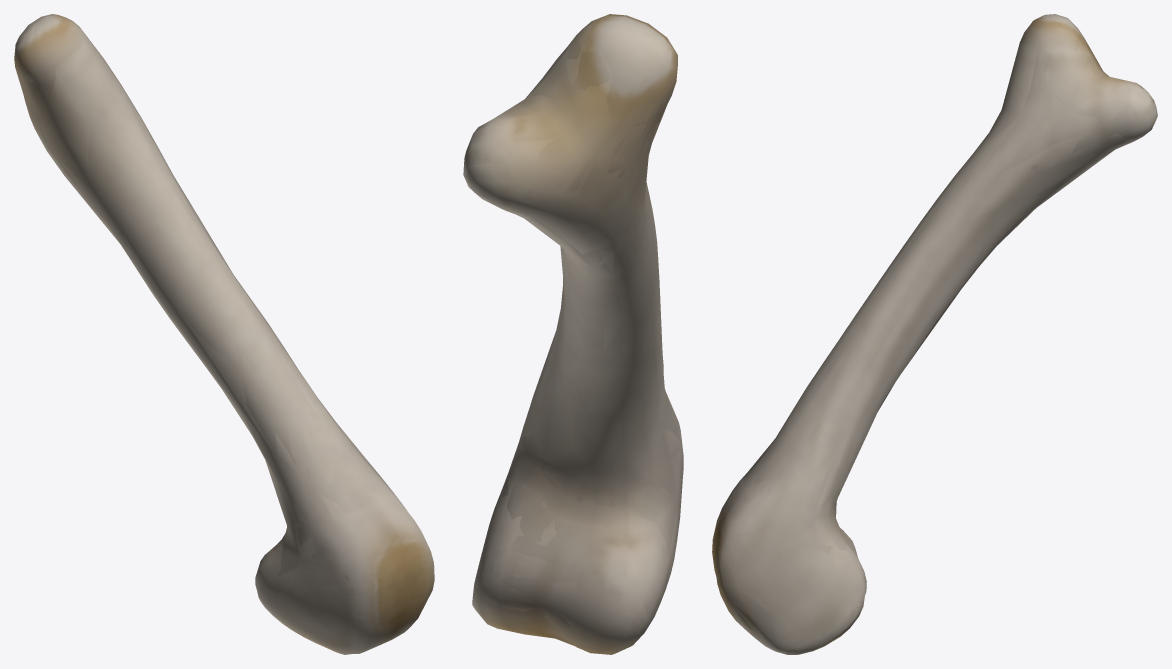
File: L Femur.fbx
3 renders of one model, left to right at view 1: azimuth 30°, elevation 25°; view 2: azimuth 150°, elevation 25°; view 3: azimuth 270°, elevation 25°, orthographic. The views are drawn at different scales.
Parts seen in each view (by area): view 1: L Femur, L Femur low, L Femur high; view 2: L Femur low, L Femur, L Femur high; view 3: L Femur, L Femur low, L Femur high.
Boxes of the visible parts, box(x1,y1,x2,y2) form: L Femur: box(14, 14, 434, 654); L Femur low: box(16, 14, 430, 635); L Femur high: box(17, 20, 430, 654); L Femur low: box(465, 16, 681, 652); L Femur: box(463, 14, 683, 654); L Femur high: box(466, 15, 681, 643); L Femur: box(712, 14, 1157, 654); L Femur low: box(712, 14, 1155, 654); L Femur high: box(713, 17, 1154, 651).
Bounding box in the file's own units: 6 × 12.71 × 9.41.
